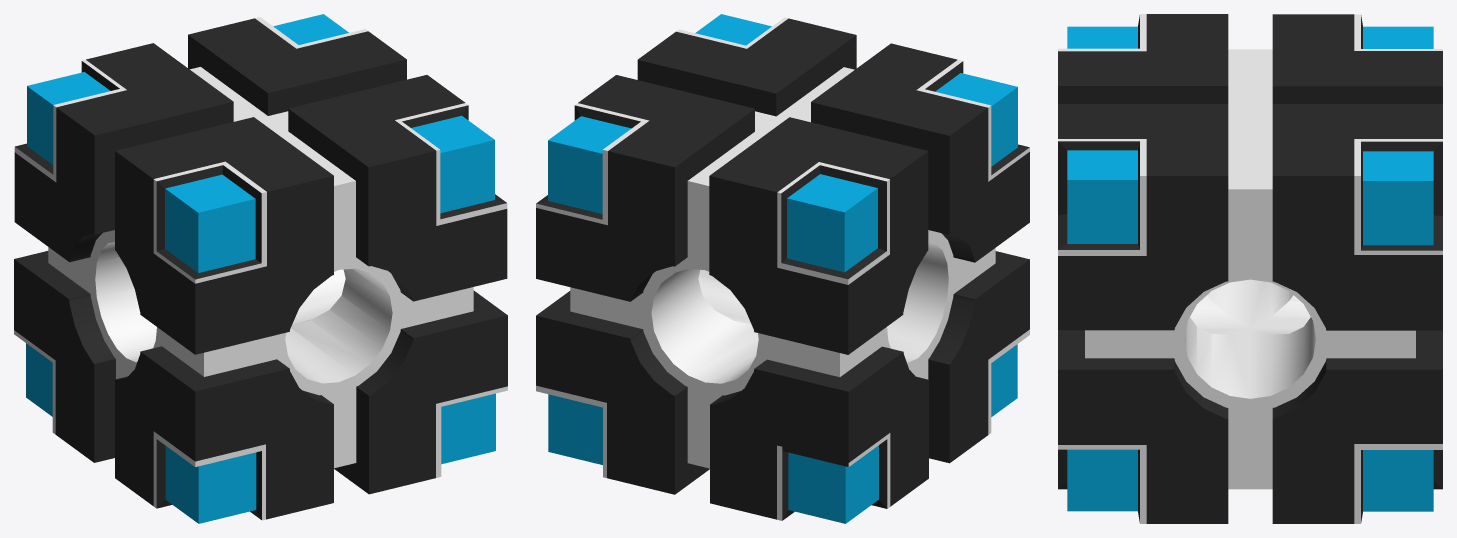
The model's file is cube_fixed.fbx.
3 views of the same model, side by side, from view 1: azimuth 30°, elevation 25°; view 2: azimuth 150°, elevation 25°; view 3: azimuth 270°, elevation 25° (orthographic). The views are drawn at different scales.
Parts seen in each view (by area): view 1: pCube18; view 2: pCube18; view 3: pCube18.
Part boxes in pixels (<box>): pCube18: <box>14,14,507,523</box>; pCube18: <box>536,14,1029,523</box>; pCube18: <box>1058,14,1442,523</box>.
Bounding box in the file's own units: 469 × 469 × 470.
